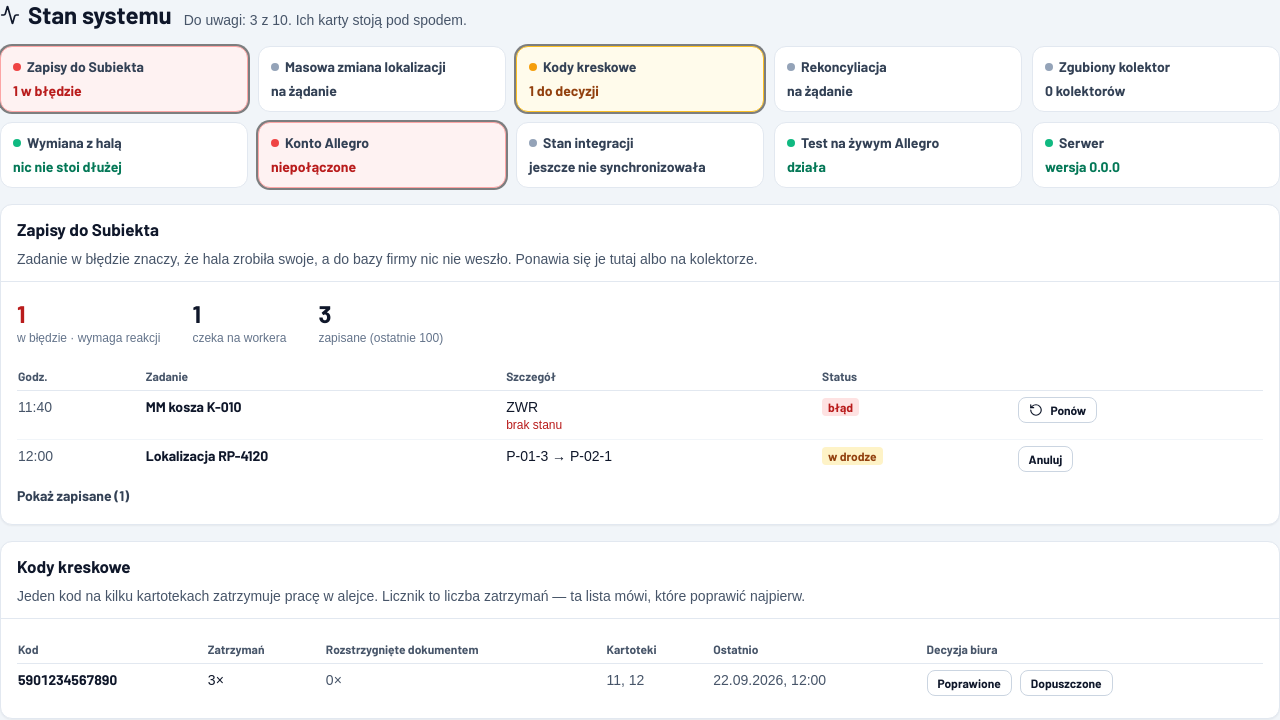
Test: Stan systemu w panelu › zdrowe i rzadkie obszary stoją kafelkiem, a klik otwiera kartę bez zapisu
Expected: the text "MM kosza K-010" is shown, [145, 390, 505, 440]
Click the button "Rekoncyliacja na żądanie" at (898, 79), box [774, 46, 1022, 112]
(page scrolled)
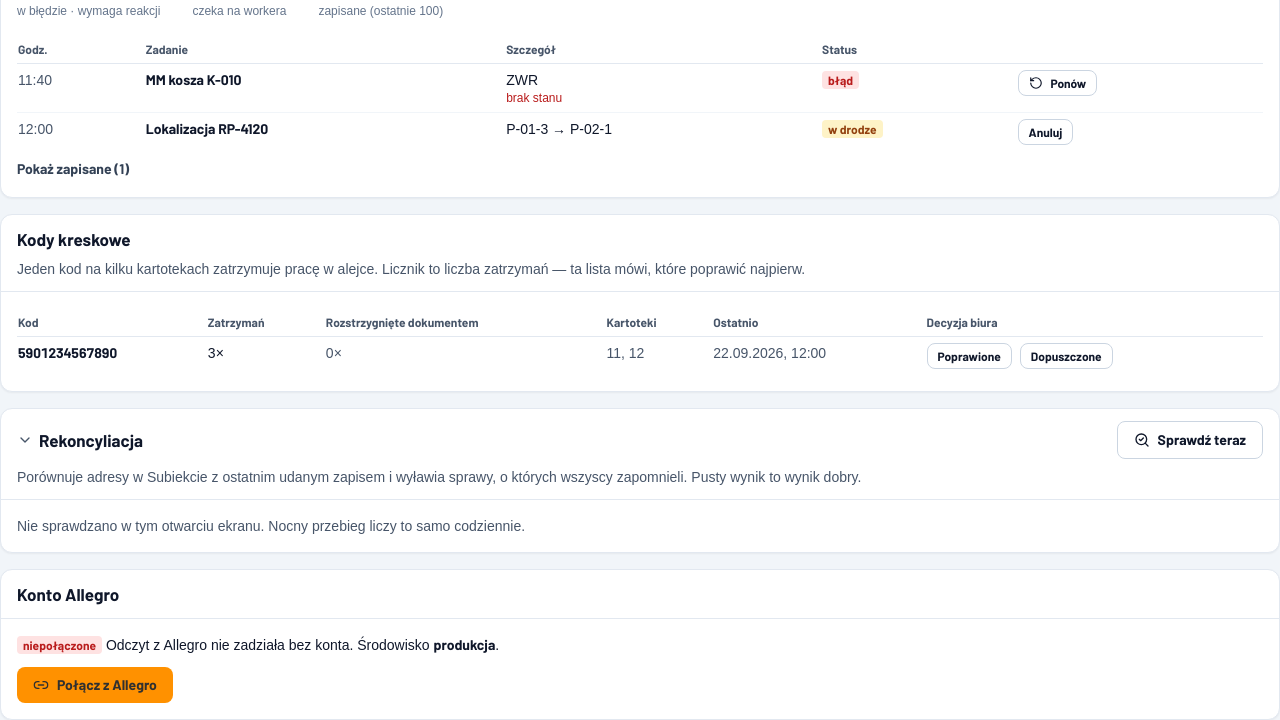
Now the button "Sprawdź teraz" is shown, box [1117, 421, 1263, 459]
